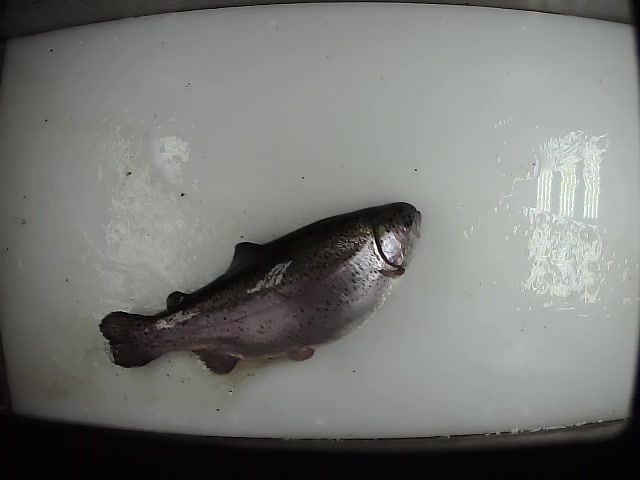fish: (96, 197, 426, 380)
